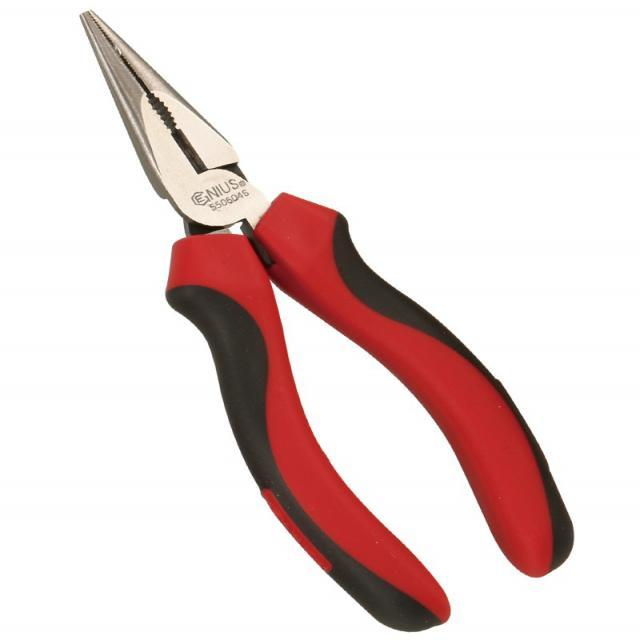pliers: (70, 6, 582, 634)
